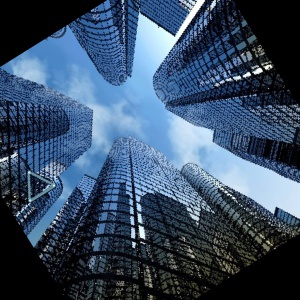triangle: (17, 169, 58, 204)
